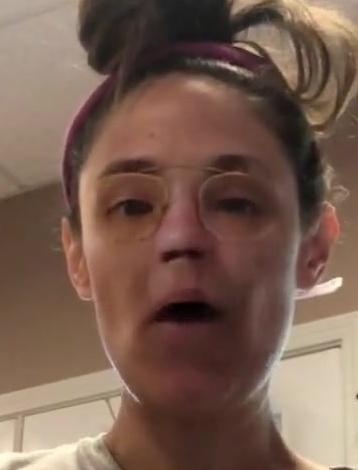n_f: (152, 177, 224, 270)
